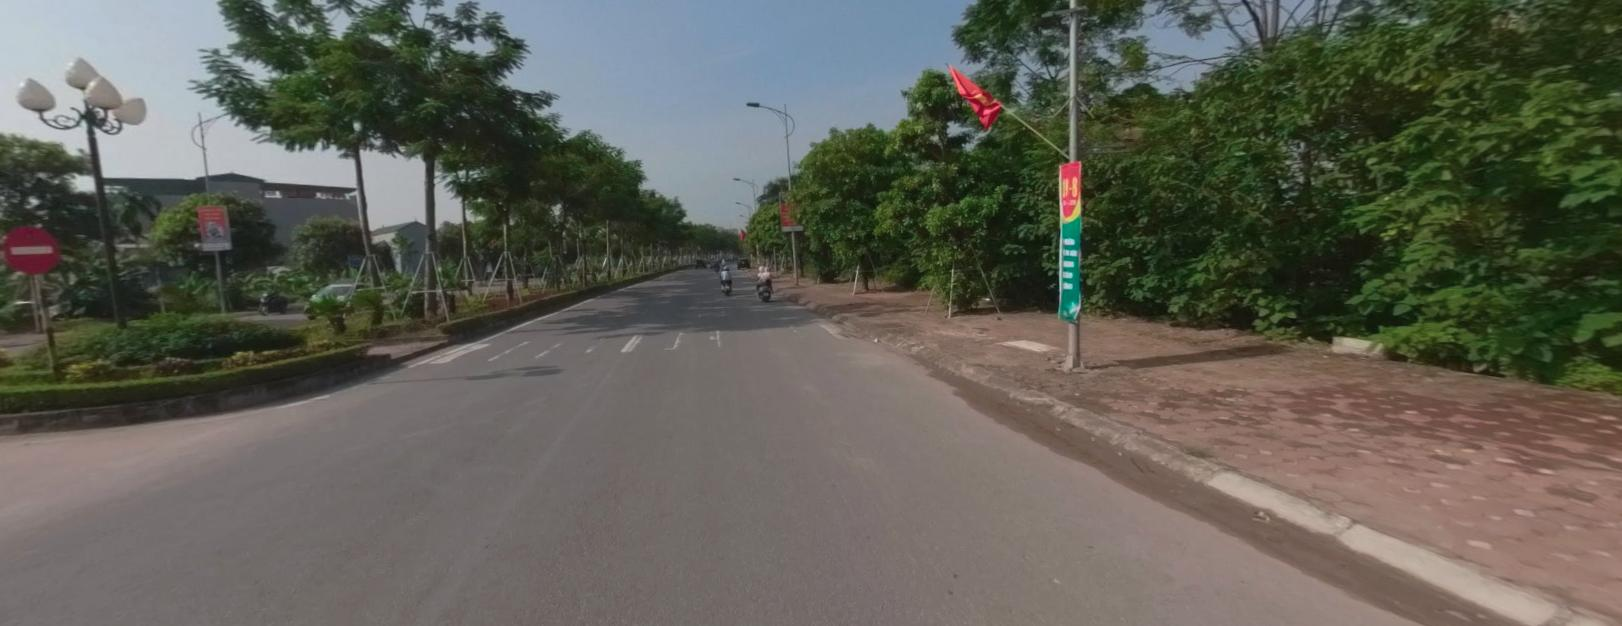Cam nguoc chieu: (3, 223, 59, 272), (4, 227, 59, 272)
